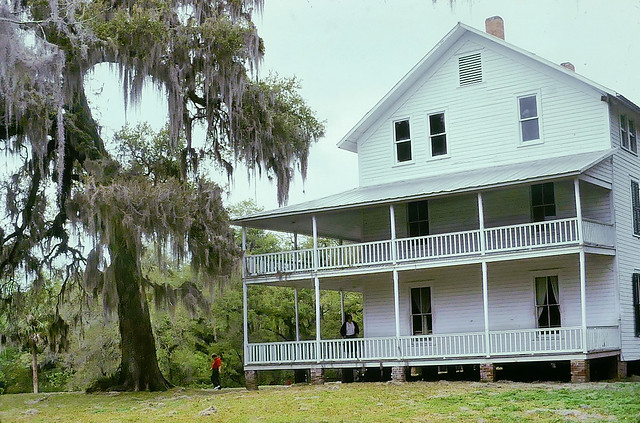medium: (226, 16, 640, 389)
